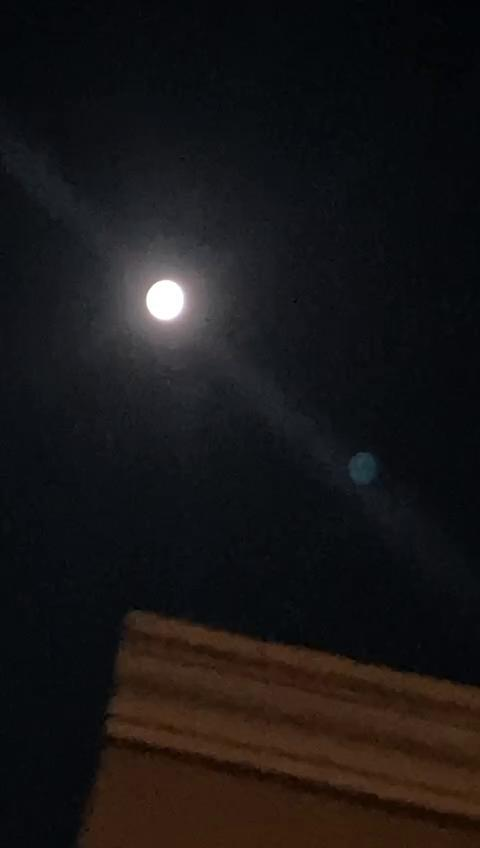moon: (132, 264, 200, 332)
